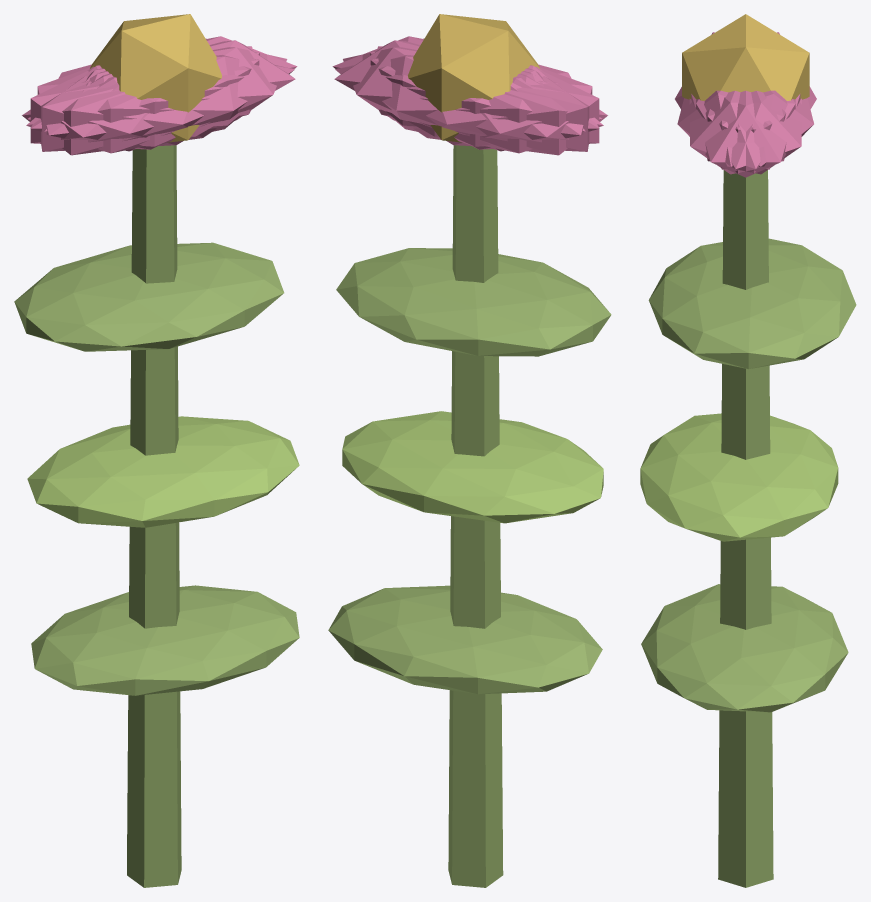
The model's file is symplocos-cochinchinensis.glb.
The picture shows the model from 3 angles, left to right: view 1: azimuth 30°, elevation 25°; view 2: azimuth 150°, elevation 25°; view 3: azimuth 270°, elevation 25°; orthographic projection.
Visible parts, largest first — view 1: stem, leaf1, leaf0, leaf2, center, petal1, petal6, petal2, petal5, petal7, petal0, petal4 (+2 smaller); view 2: stem, leaf2, leaf0, leaf1, center, petal8, petal3, petal7, petal4, petal2, petal0, petal5 (+2 smaller); view 3: stem, leaf2, leaf0, leaf1, center, petal0, petal4, petal5, petal8, petal1.
Part boxes in pixels (<box>): stem: <box>127,145,181,887</box>; leaf1: <box>27,416,299,527</box>; leaf0: <box>31,585,299,695</box>; leaf2: <box>14,242,284,351</box>; center: <box>90,14,221,142</box>; petal1: <box>26,55,294,153</box>; petal6: <box>22,66,216,155</box>; petal2: <box>41,46,252,151</box>; petal5: <box>44,47,287,146</box>; petal7: <box>30,52,259,149</box>; petal0: <box>89,40,295,137</box>; petal4: <box>27,36,297,128</box>; stem: <box>448,145,503,887</box>; leaf2: <box>336,248,611,356</box>; leaf0: <box>328,585,602,694</box>; leaf1: <box>342,411,603,523</box>; center: <box>408,14,540,142</box>; petal8: <box>335,55,603,153</box>; petal3: <box>413,66,607,155</box>; petal7: <box>377,46,589,151</box>; petal4: <box>343,47,585,146</box>; petal2: <box>370,52,599,149</box>; petal0: <box>334,40,540,137</box>; petal5: <box>332,36,602,128</box>; stem: <box>718,170,773,887</box>; leaf2: <box>648,238,856,369</box>; leaf0: <box>641,584,848,712</box>; leaf1: <box>640,413,838,541</box>; center: <box>682,14,809,100</box>; petal0: <box>691,90,800,177</box>; petal4: <box>696,90,801,174</box>; petal5: <box>689,91,795,174</box>; petal8: <box>705,90,813,166</box>; petal1: <box>677,90,785,166</box>.
Size of the model in its own units: 0.1452 by 0.4483 by 0.1039.
